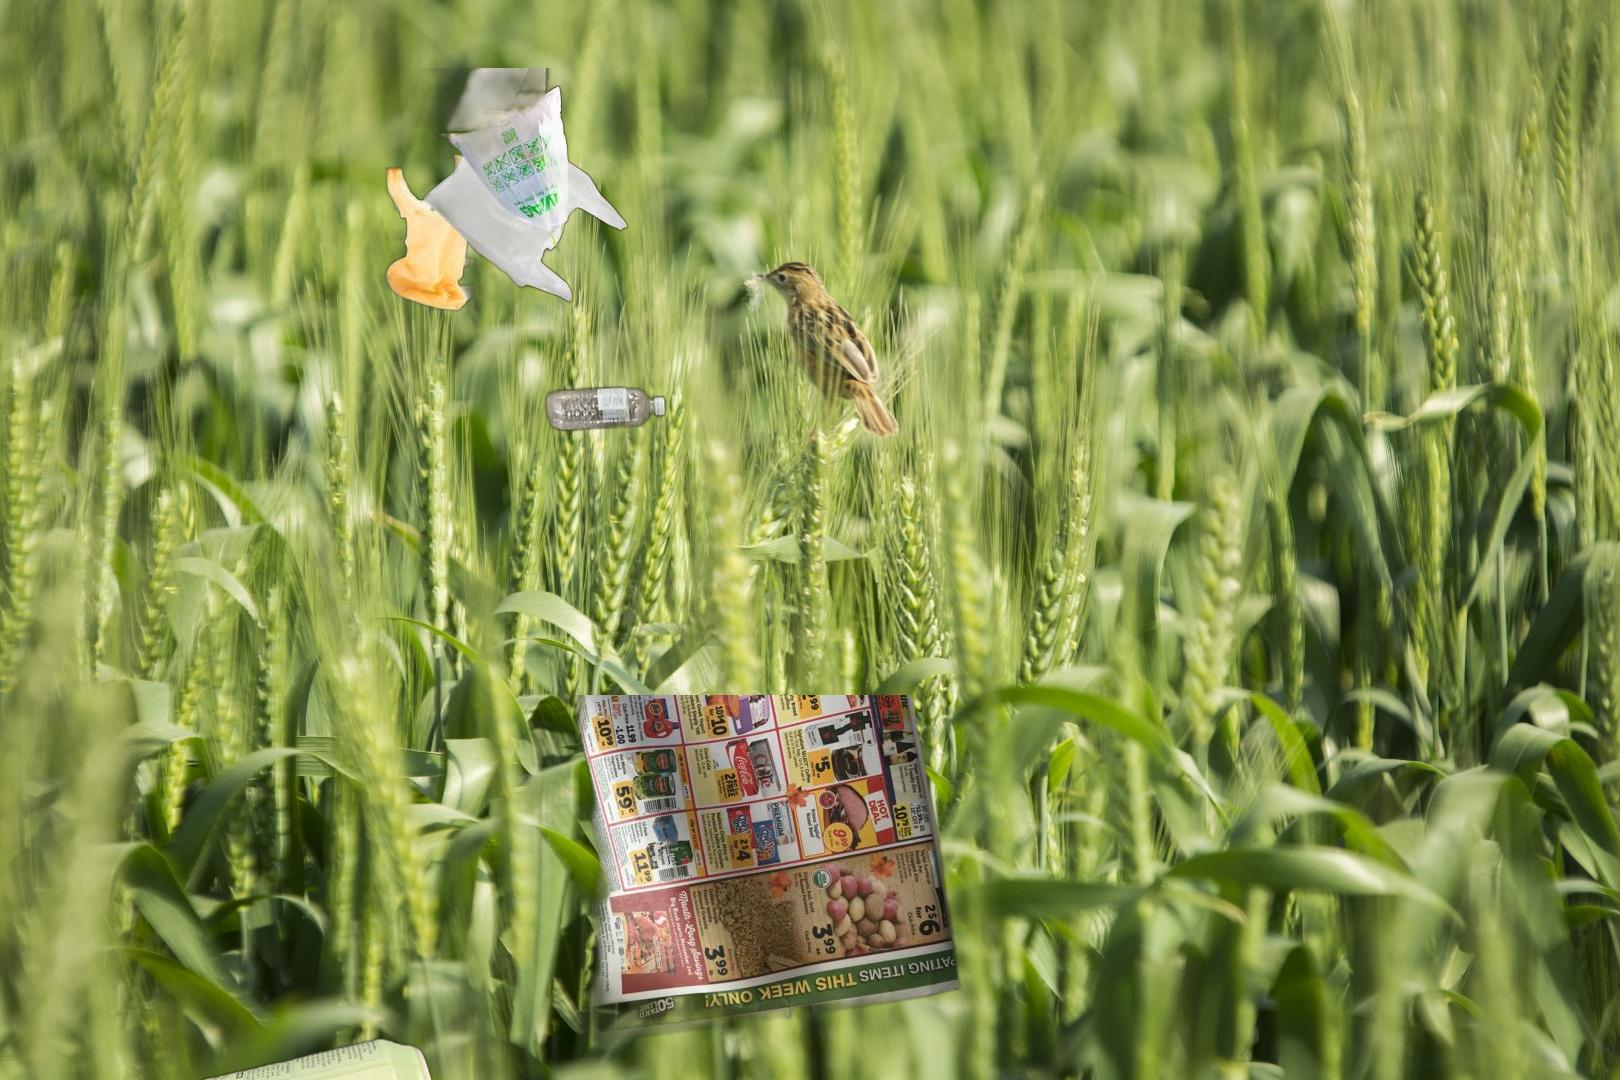metal-cans: (182, 1032, 444, 1080)
paper: (552, 695, 965, 1047)
plastic-bag: (344, 67, 630, 368)
plastic-bottles: (541, 381, 670, 438)
